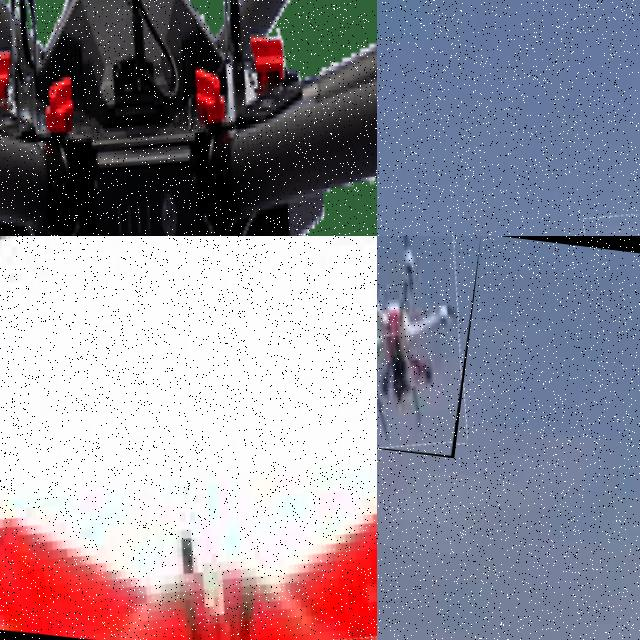0: (377, 236, 481, 458)
drone: (0, 236, 377, 640), (0, 0, 377, 236)
